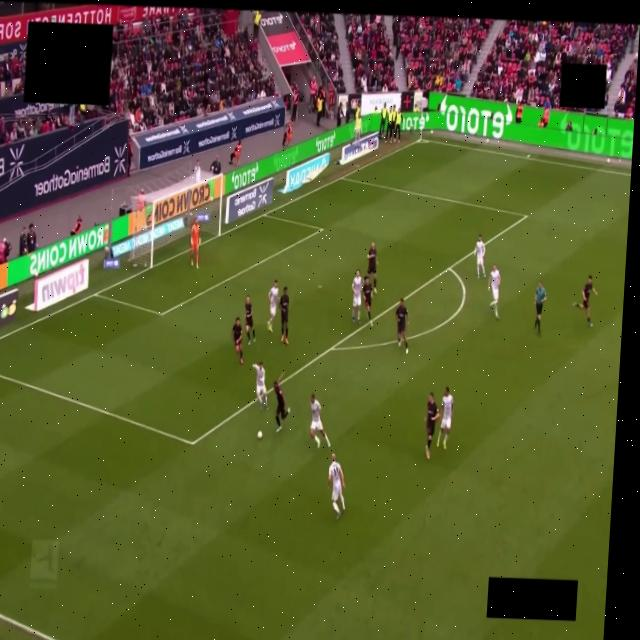ball: (257, 431, 262, 440)
player: (572, 275, 596, 326), (327, 453, 344, 519), (310, 394, 329, 448), (424, 393, 439, 460), (437, 386, 453, 448), (273, 375, 289, 432), (252, 362, 267, 410), (266, 280, 279, 333), (395, 298, 407, 353), (488, 265, 500, 319), (279, 287, 289, 345), (366, 242, 376, 294), (352, 270, 361, 325), (190, 219, 200, 268), (362, 276, 372, 325), (244, 297, 254, 345), (474, 235, 485, 278), (232, 317, 242, 364)
referee: (534, 282, 546, 335)
